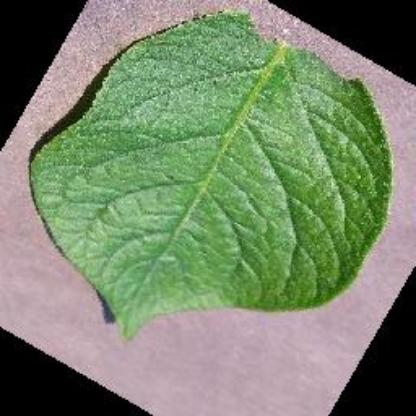Healthy-plant: (15, 4, 405, 359)
